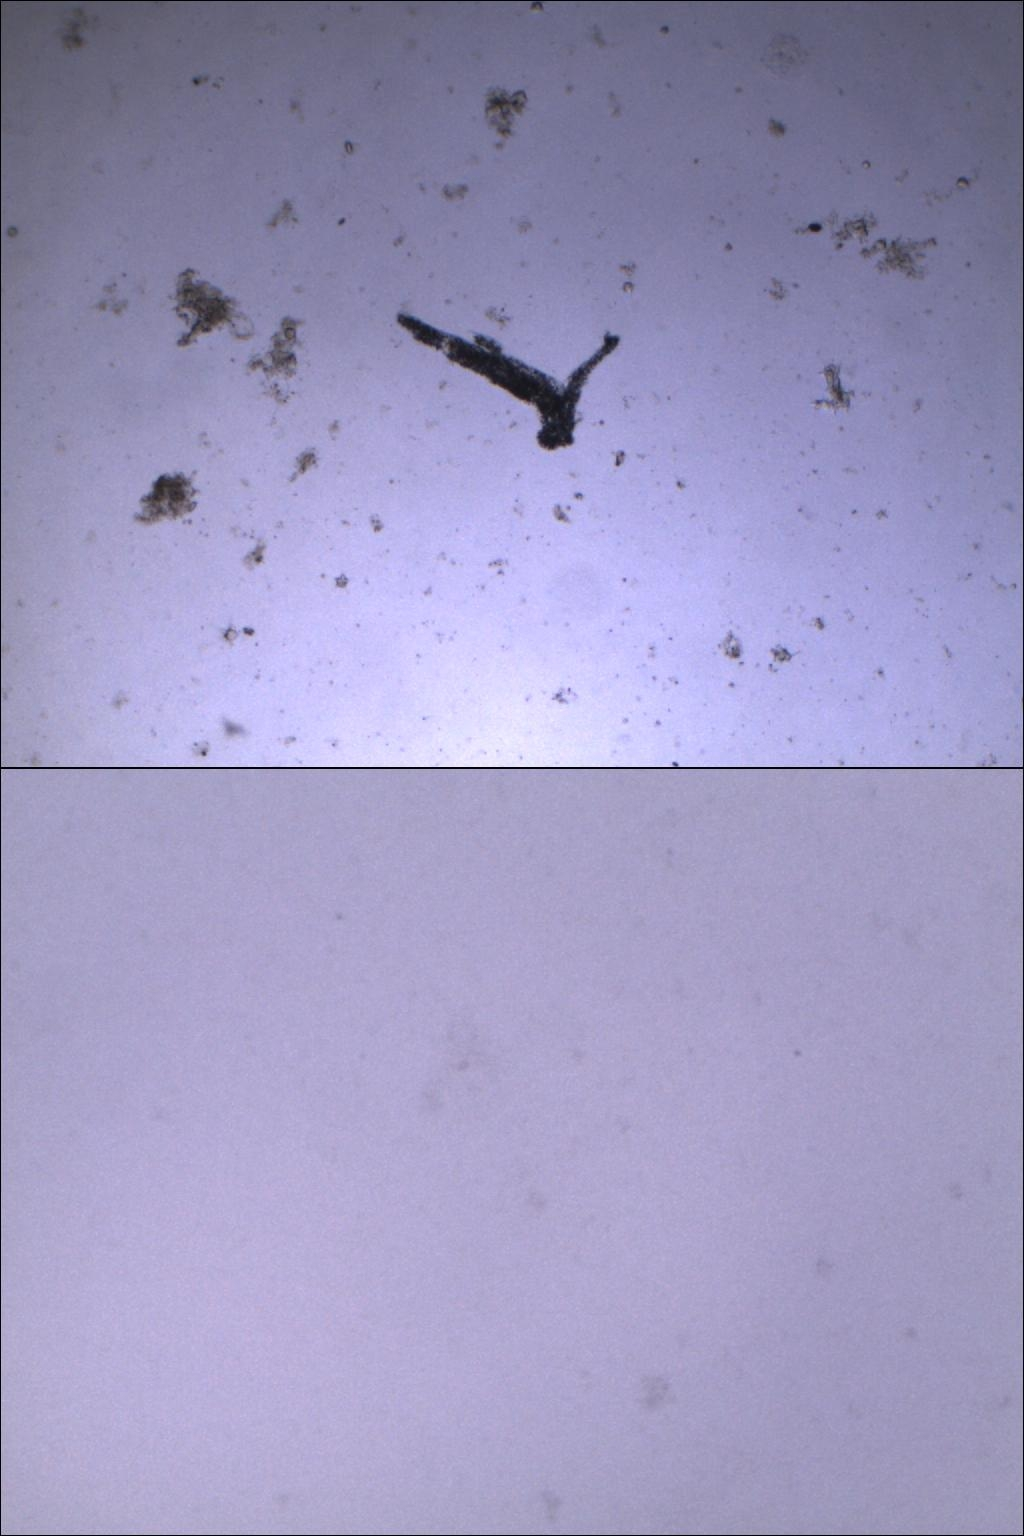N.Fowleri Amoeba: (411, 975, 528, 1141)
Proteus Amoeba: (379, 295, 632, 464)
